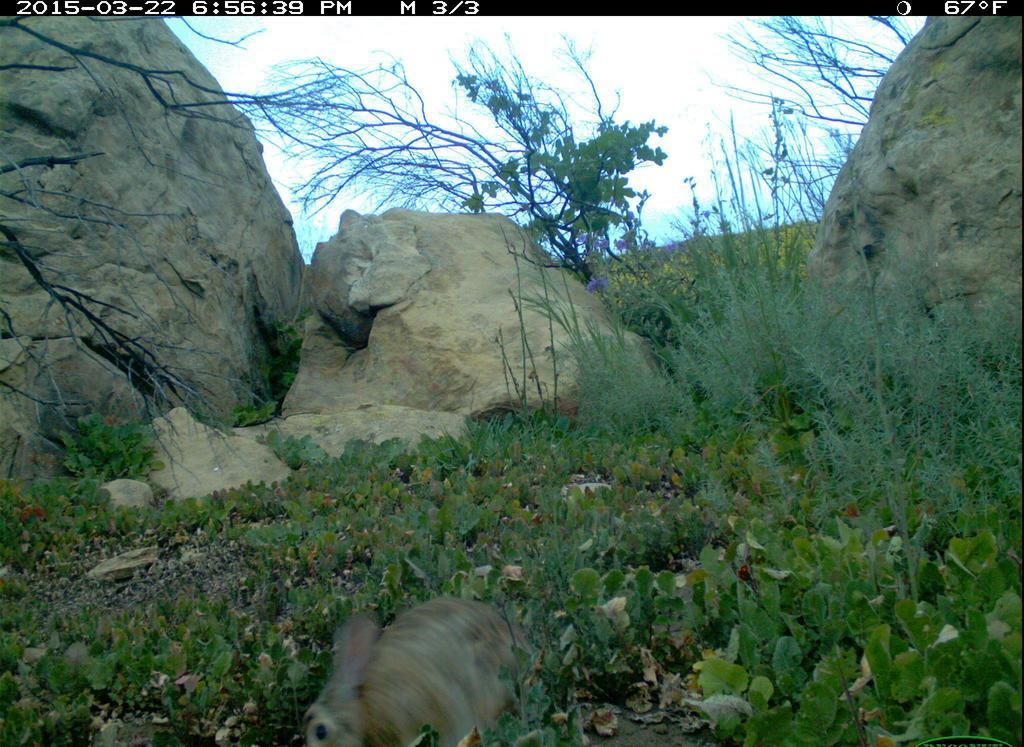rabbit: (295, 587, 551, 742)
